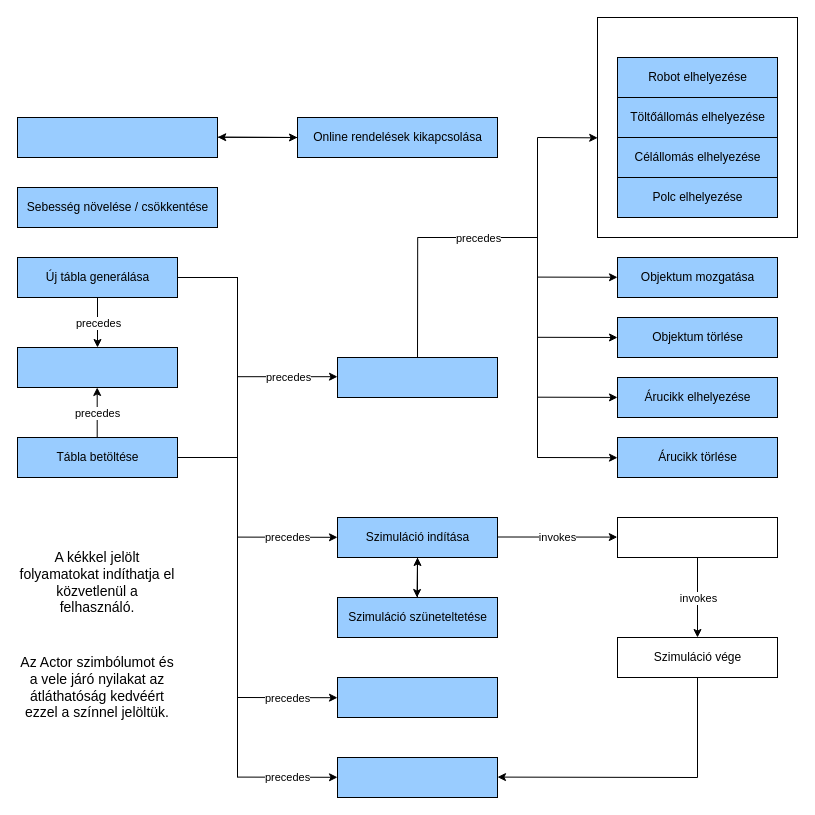
Image size: 815x815. Some labels were removed from this diagram. Each missing label, with the box of its shape:
Adatok alaphelyzetbe állítása: (336, 676, 498, 718)
Adatok exportálása: (336, 756, 498, 798)
Mező kijelölése: (336, 356, 498, 398)
Objektum elhelyezése: (596, 16, 798, 238)
Online rendelések bekapcsolása: (16, 116, 218, 158)
Szimuláció léptetése: (616, 516, 778, 558)
Tábla mentése: (16, 346, 178, 388)
